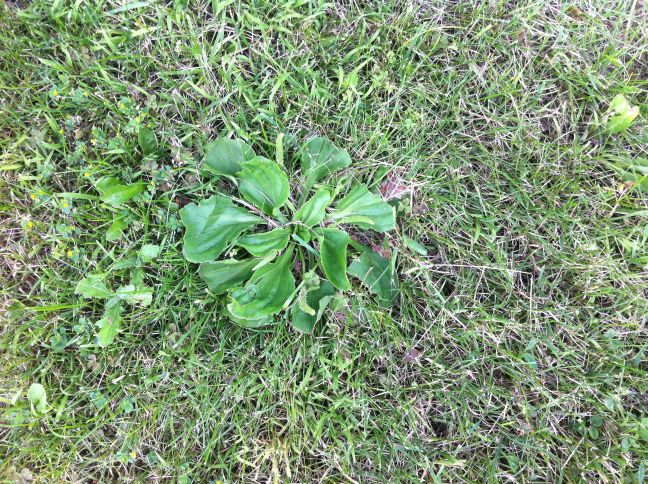weed1: (180, 133, 404, 336)
